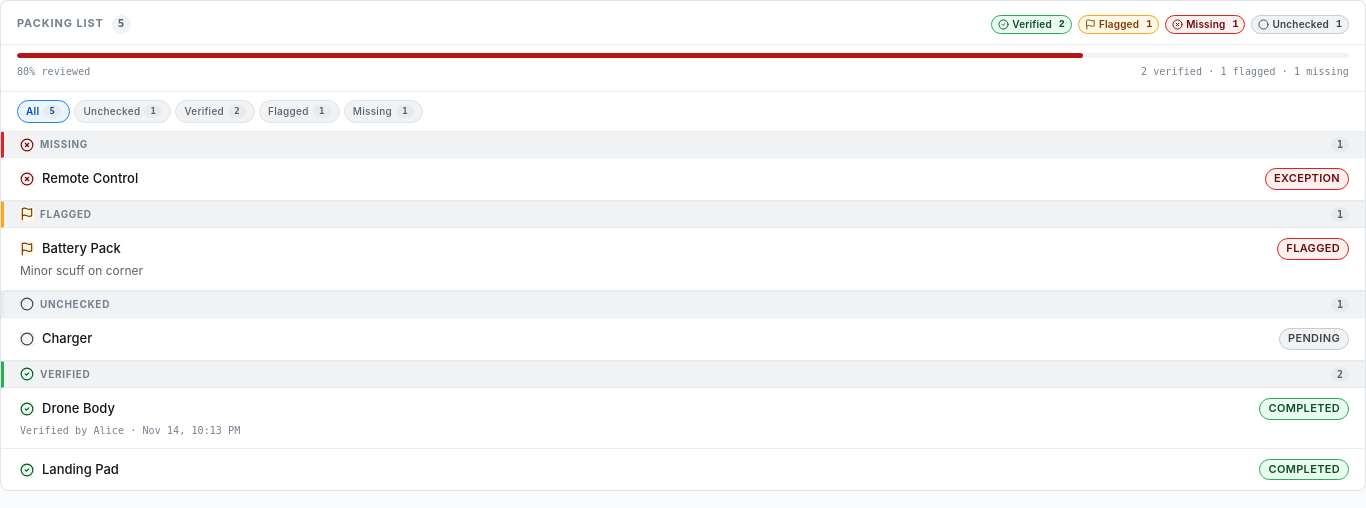
Scenario: ManifestPanel › shows only damaged items after clicking the Flagged filter
Click the button with aria-label "Show flagged items". click: (299, 112)
box: [259,100,340,123]
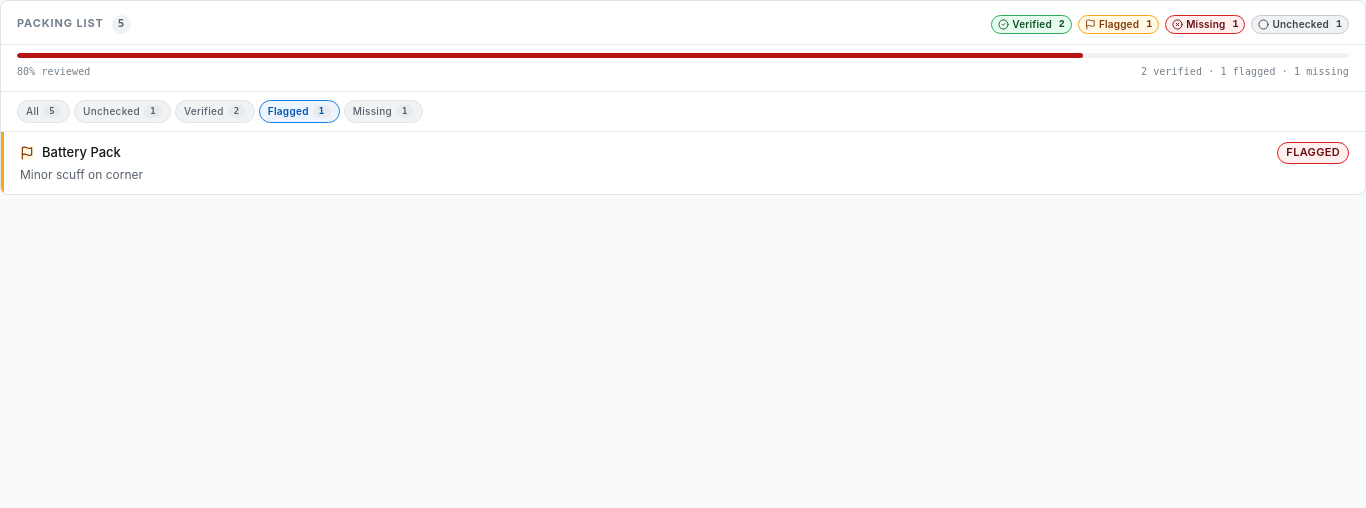
expect the number of list items with test id "manifest-item" is 1: met, box [1,132,1365,194]
